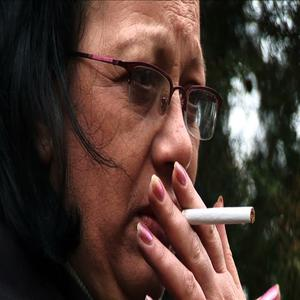cigarette: (176, 205, 258, 226)
